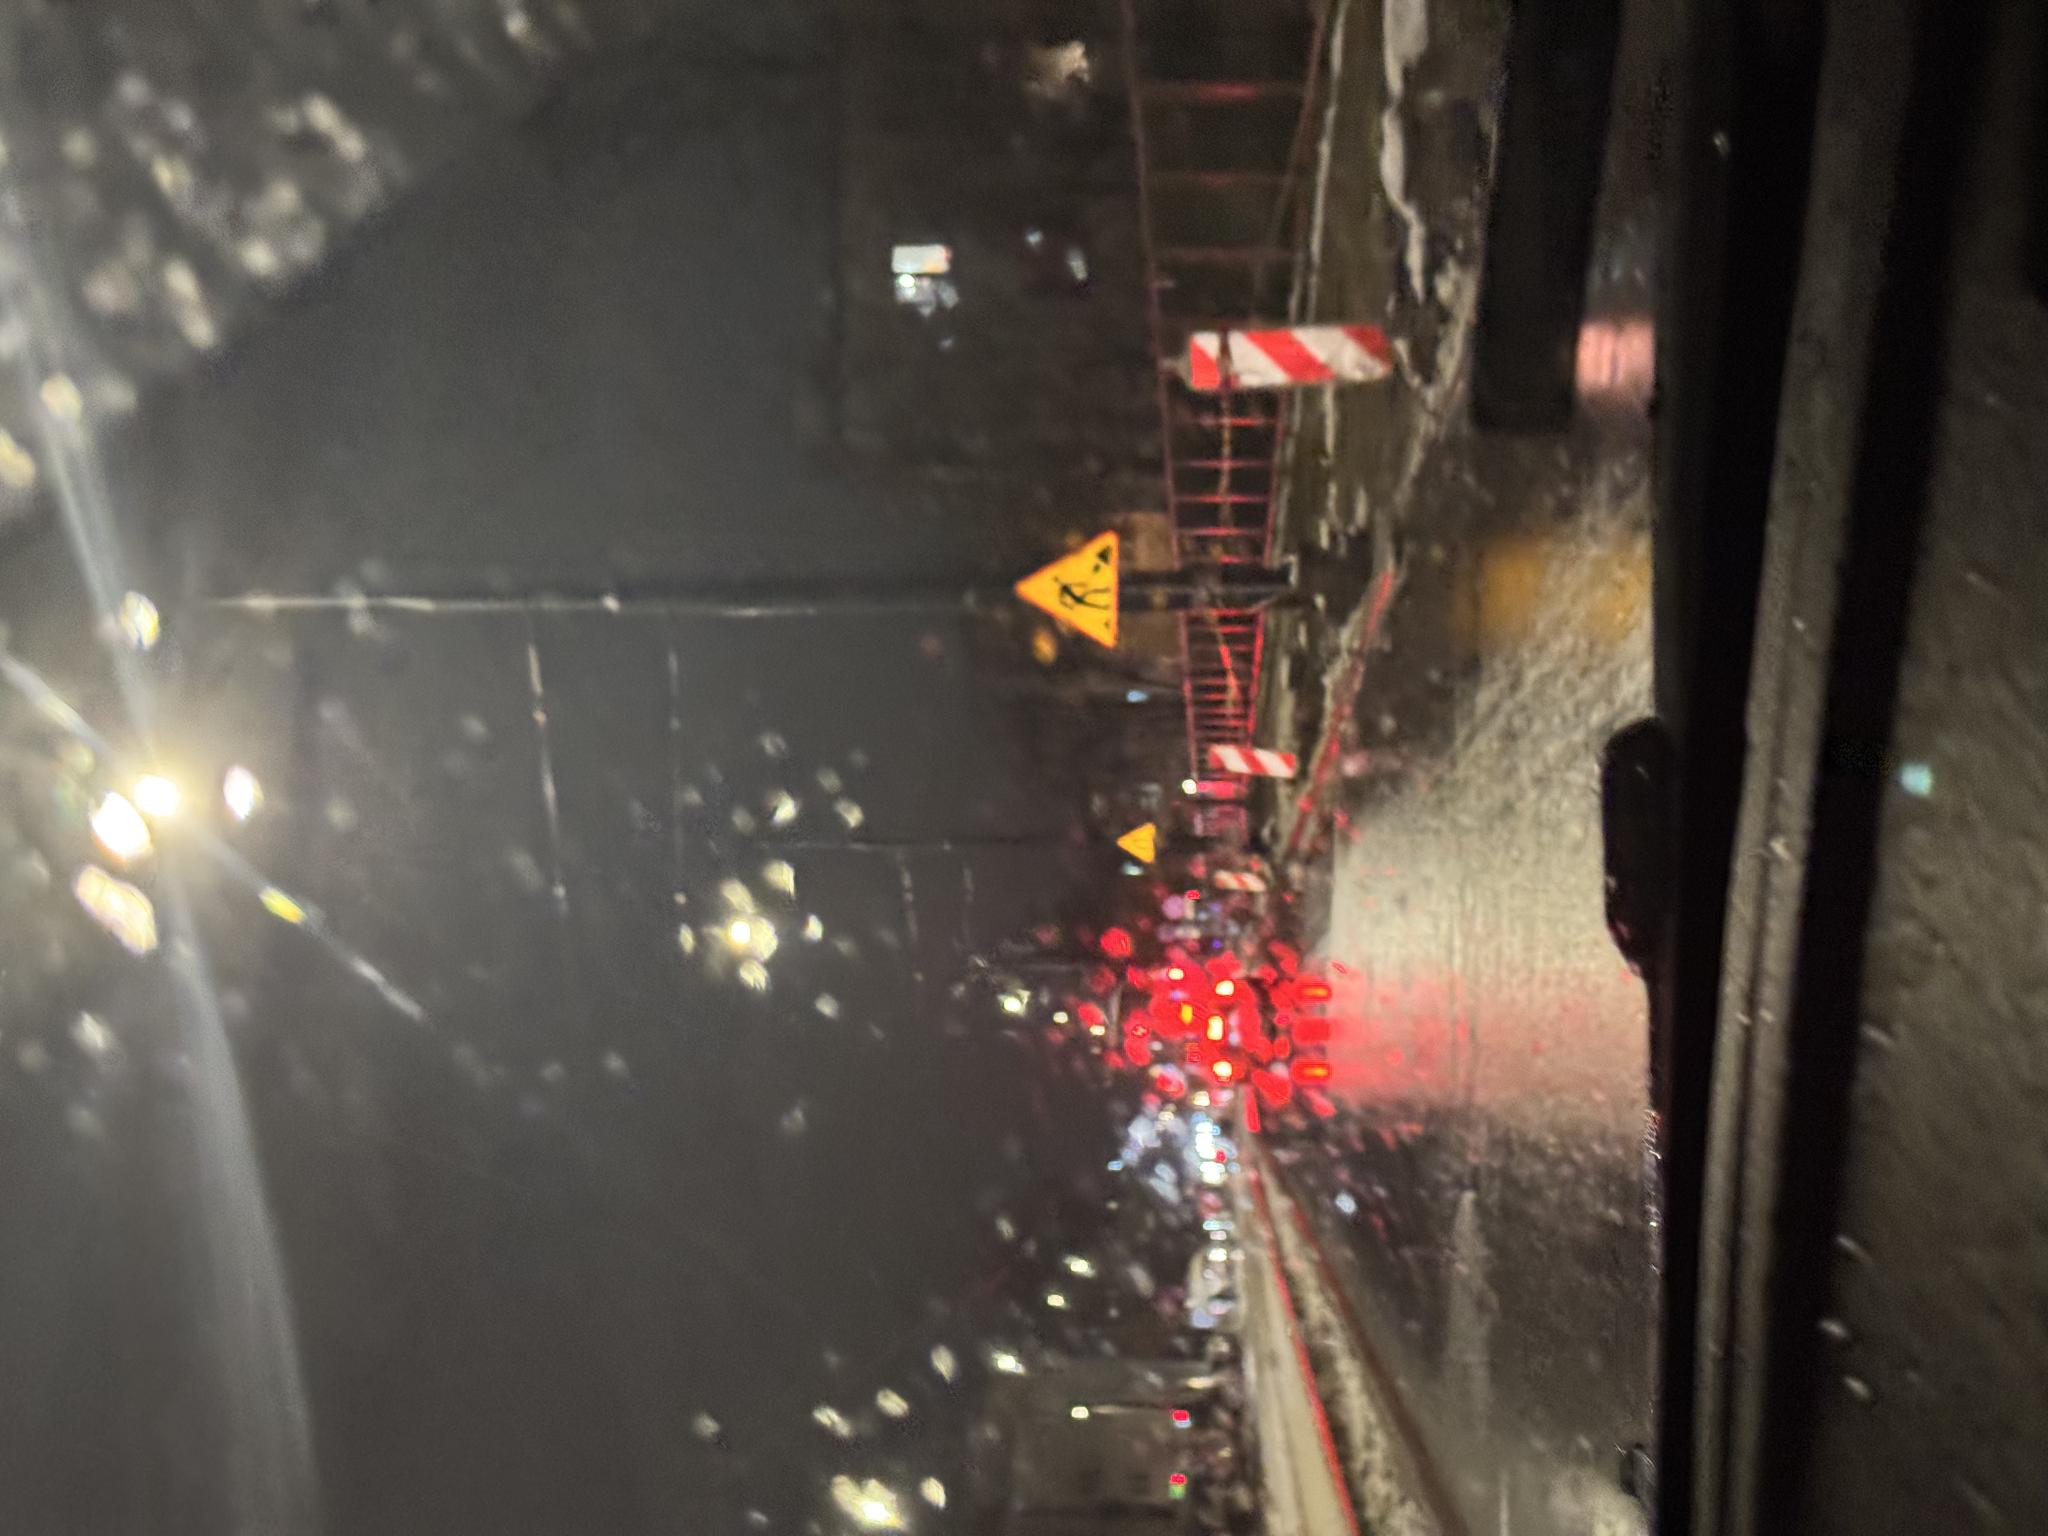warning: (887, 1013, 1006, 1121)
